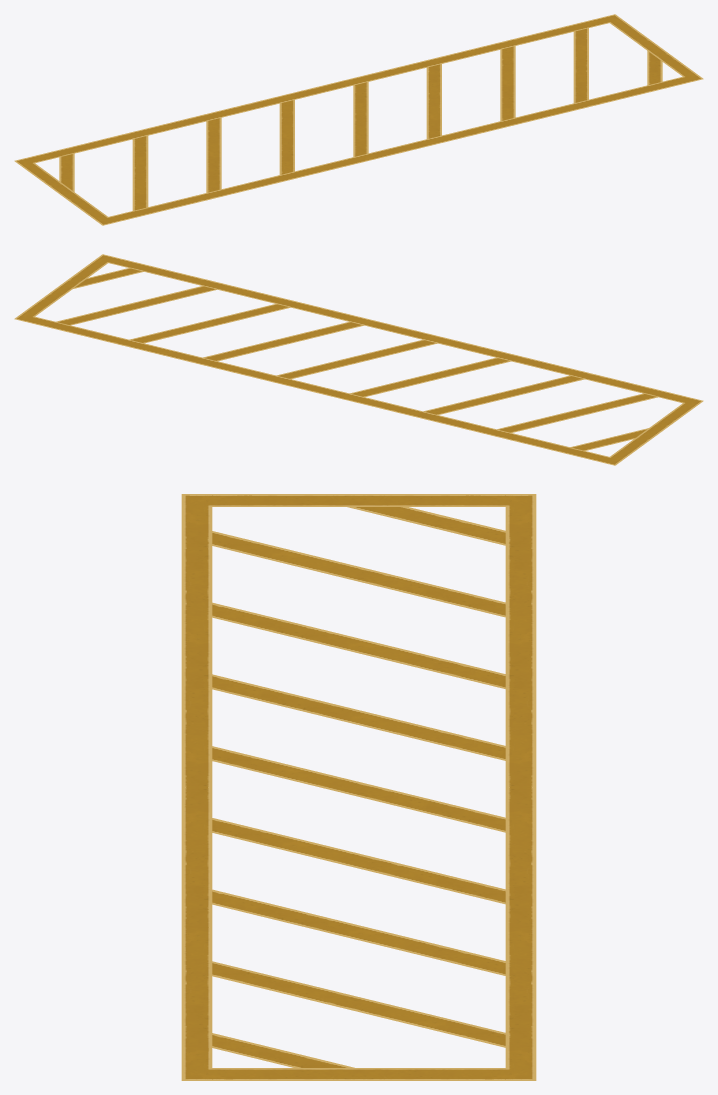
Rendered from SM_Decal_CautionStripe_Block_A.fbx.
3 views of the same model, one above another, from view 1: azimuth 30°, elevation 25°; view 2: azimuth 150°, elevation 25°; view 3: azimuth 270°, elevation 25° (orthographic). The views are drawn at different scales.
Visible parts, largest first — view 1: SM_Decal_CautionStripe_Block_A_LOD0; view 2: SM_Decal_CautionStripe_Block_A_LOD0; view 3: SM_Decal_CautionStripe_Block_A_LOD0.
Part boxes in pixels (bbox=[...]): SM_Decal_CautionStripe_Block_A_LOD0: bbox=[14, 14, 703, 225]; SM_Decal_CautionStripe_Block_A_LOD0: bbox=[14, 254, 703, 465]; SM_Decal_CautionStripe_Block_A_LOD0: bbox=[181, 494, 536, 1080].
Size of the model in its own units: 1227 by 314 by 0.01.
Materials: 1 (1 with a texture image).
